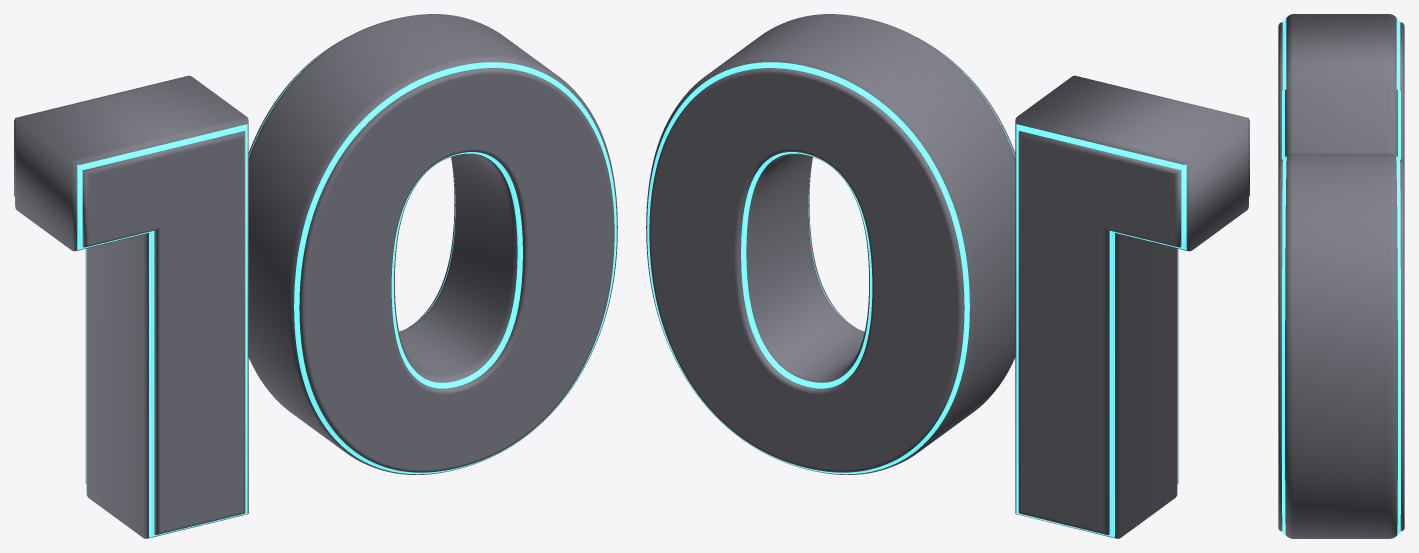
File: Number 10.fbx
The picture shows the model from 3 angles, left to right: view 1: azimuth 30°, elevation 25°; view 2: azimuth 150°, elevation 25°; view 3: azimuth 270°, elevation 25°; orthographic projection. The views are drawn at different scales.
Parts seen in each view (by area): view 1: N_10_smaller, N_10_side, N_10_border; view 2: N_10_smaller, N_10_side, N_10_border; view 3: N_10_side, N_10_smaller, N_10_border.
Part boxes in pixels (x1,y1,x2,y2): N_10_smaller: [14, 37, 614, 534]; N_10_side: [15, 14, 617, 538]; N_10_border: [77, 50, 616, 537]; N_10_smaller: [649, 37, 1249, 534]; N_10_side: [646, 14, 1248, 538]; N_10_border: [647, 50, 1186, 537]; N_10_side: [1285, 14, 1397, 538]; N_10_smaller: [1278, 22, 1404, 531]; N_10_border: [1282, 18, 1400, 534].
Size of the model in its own units: 79.3 by 56.95 by 18.4.
